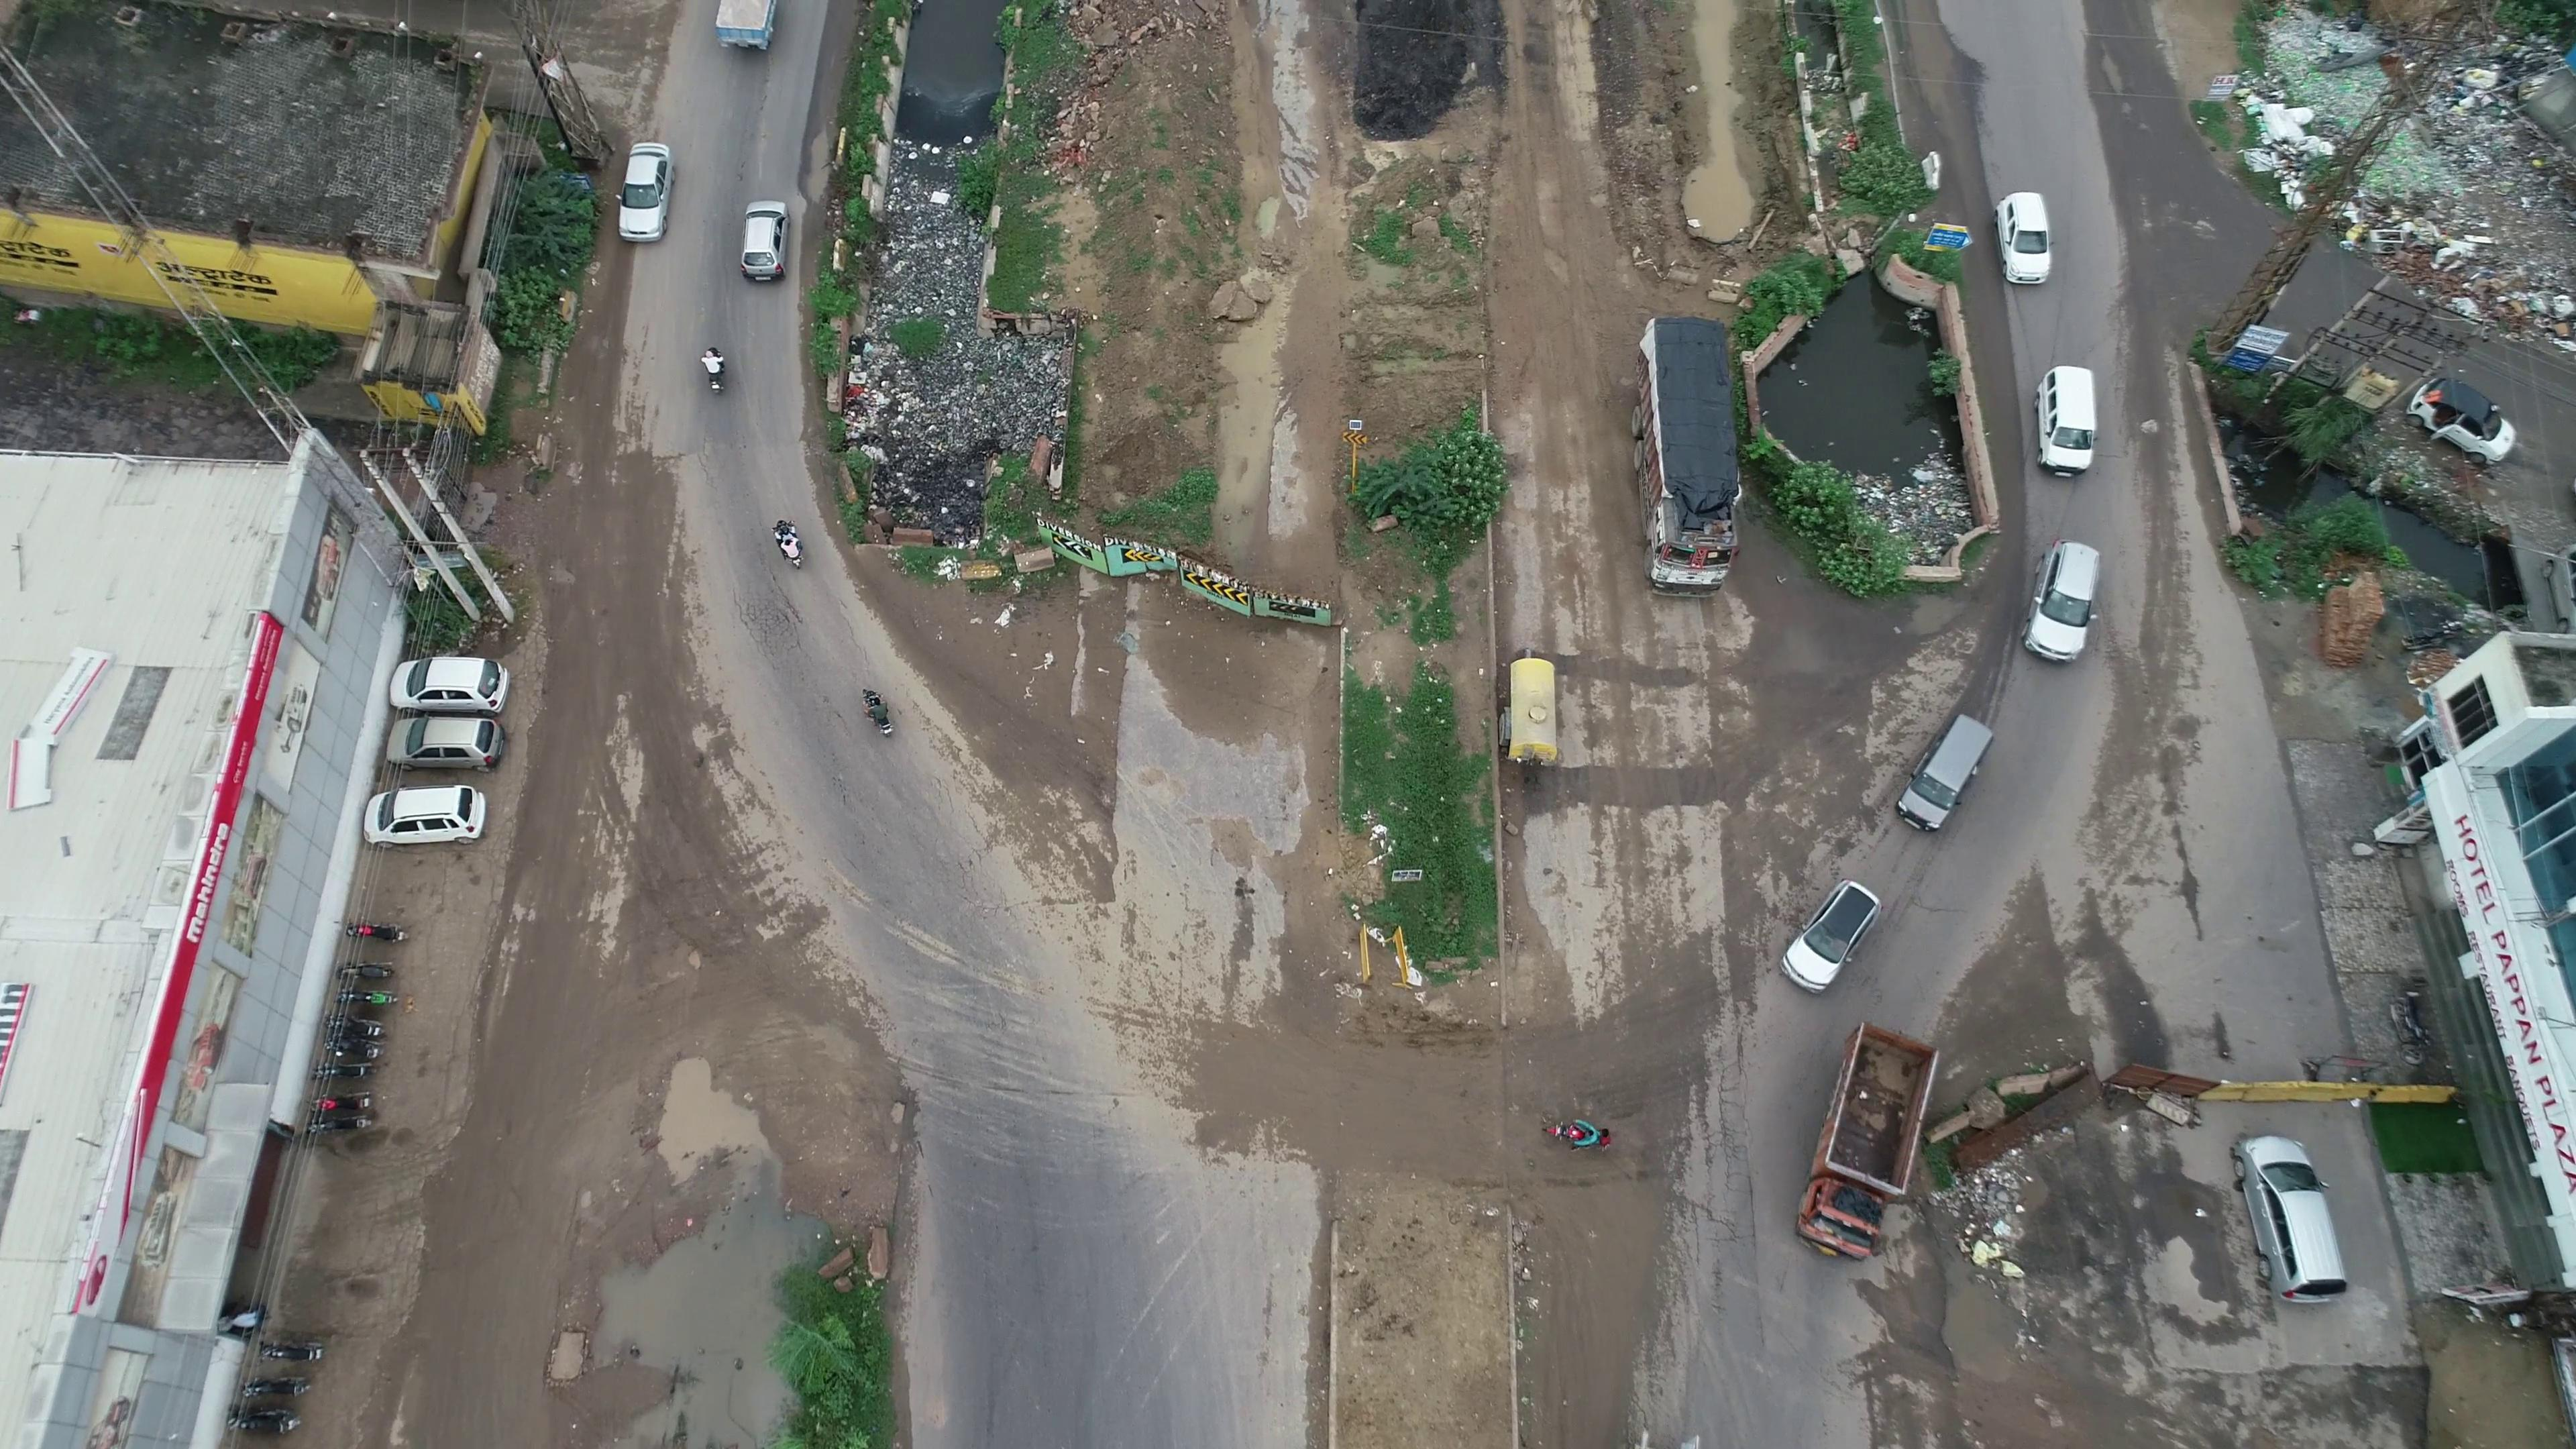Muddy_road: (1537, 1166, 1677, 1444)
Waterlogging: (541, 1035, 824, 1426)
